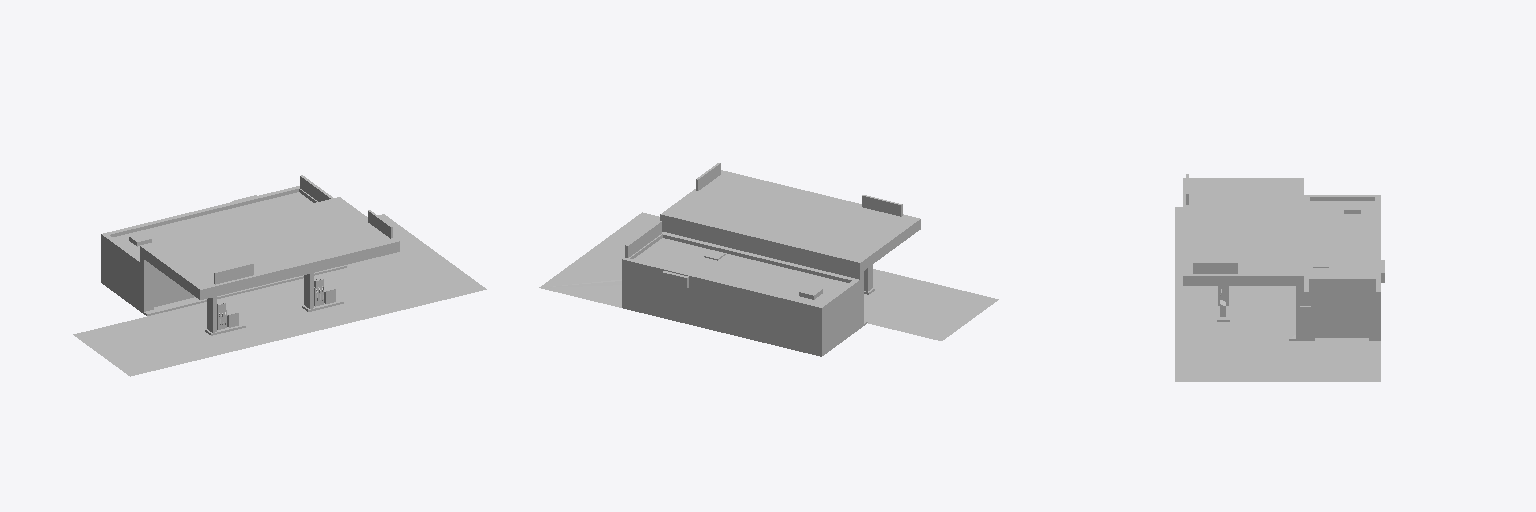
Rendered from station.obj.
3 views of the same model, side by side, from view 1: azimuth 30°, elevation 25°; view 2: azimuth 150°, elevation 25°; view 3: azimuth 270°, elevation 25° (orthographic).
Parts seen in each view (by area): view 1: gasstation_red_Plane.004, gas_pump_red_Plane.005; view 2: gasstation_red_Plane.004; view 3: gasstation_red_Plane.004.
Part boxes in pixels (x1,y1,x2,y2): gasstation_red_Plane.004: (73, 175, 486, 376); gas_pump_red_Plane.005: (205, 273, 343, 335); gasstation_red_Plane.004: (539, 163, 998, 356); gasstation_red_Plane.004: (1175, 174, 1384, 381).
Size of the model in its own units: 28.65 by 5.94 by 14.65.